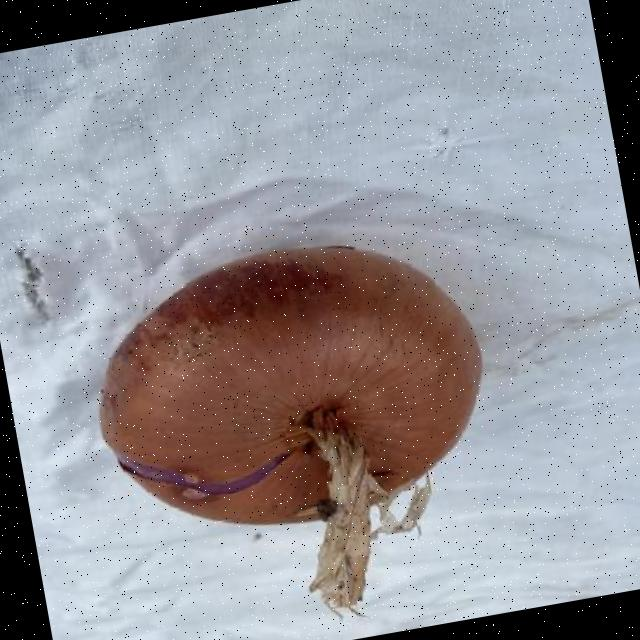Onion: (97, 244, 480, 615)
